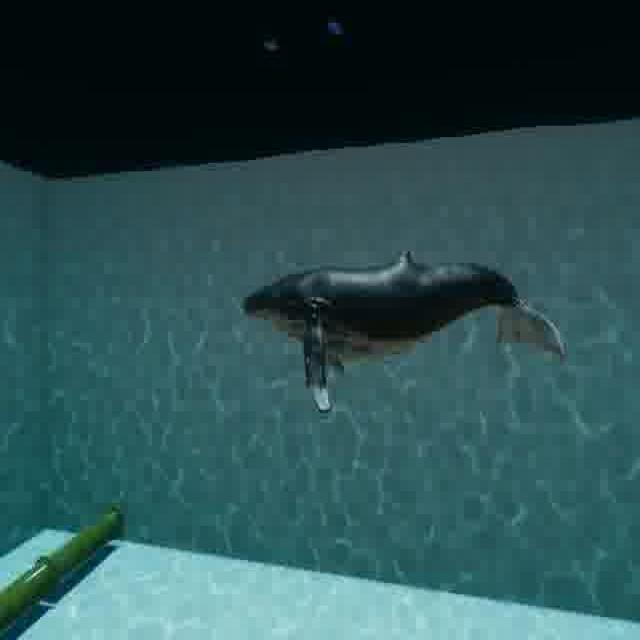Pipe: (3, 490, 134, 640)
Whale: (234, 238, 588, 428)
